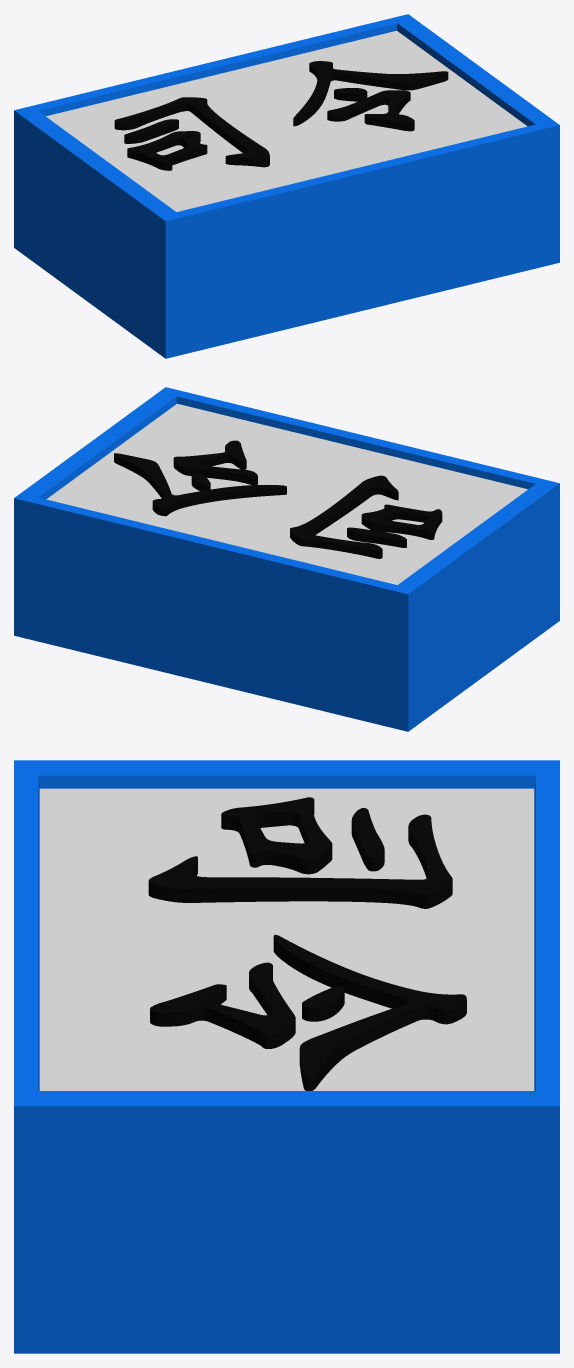
File: 1_si_ling.fbx
The picture shows the model from 3 angles, top to bottom: view 1: azimuth 30°, elevation 25°; view 2: azimuth 150°, elevation 25°; view 3: azimuth 270°, elevation 25°; orthographic projection. The views are drawn at different scales.
Visible parts, largest first — view 1: Cube, 文本; view 2: Cube, 文本; view 3: Cube, 文本.
Boxes of the visible parts, x1,y1,x2,y2 form: Cube: (14,14,559,358); 文本: (114,61,448,170); Cube: (14,387,559,731); 文本: (114,440,442,558); Cube: (14,760,559,1353); 文本: (148,797,466,1090).
Bounding box in the file's own units: 240 × 80.47 × 160.
